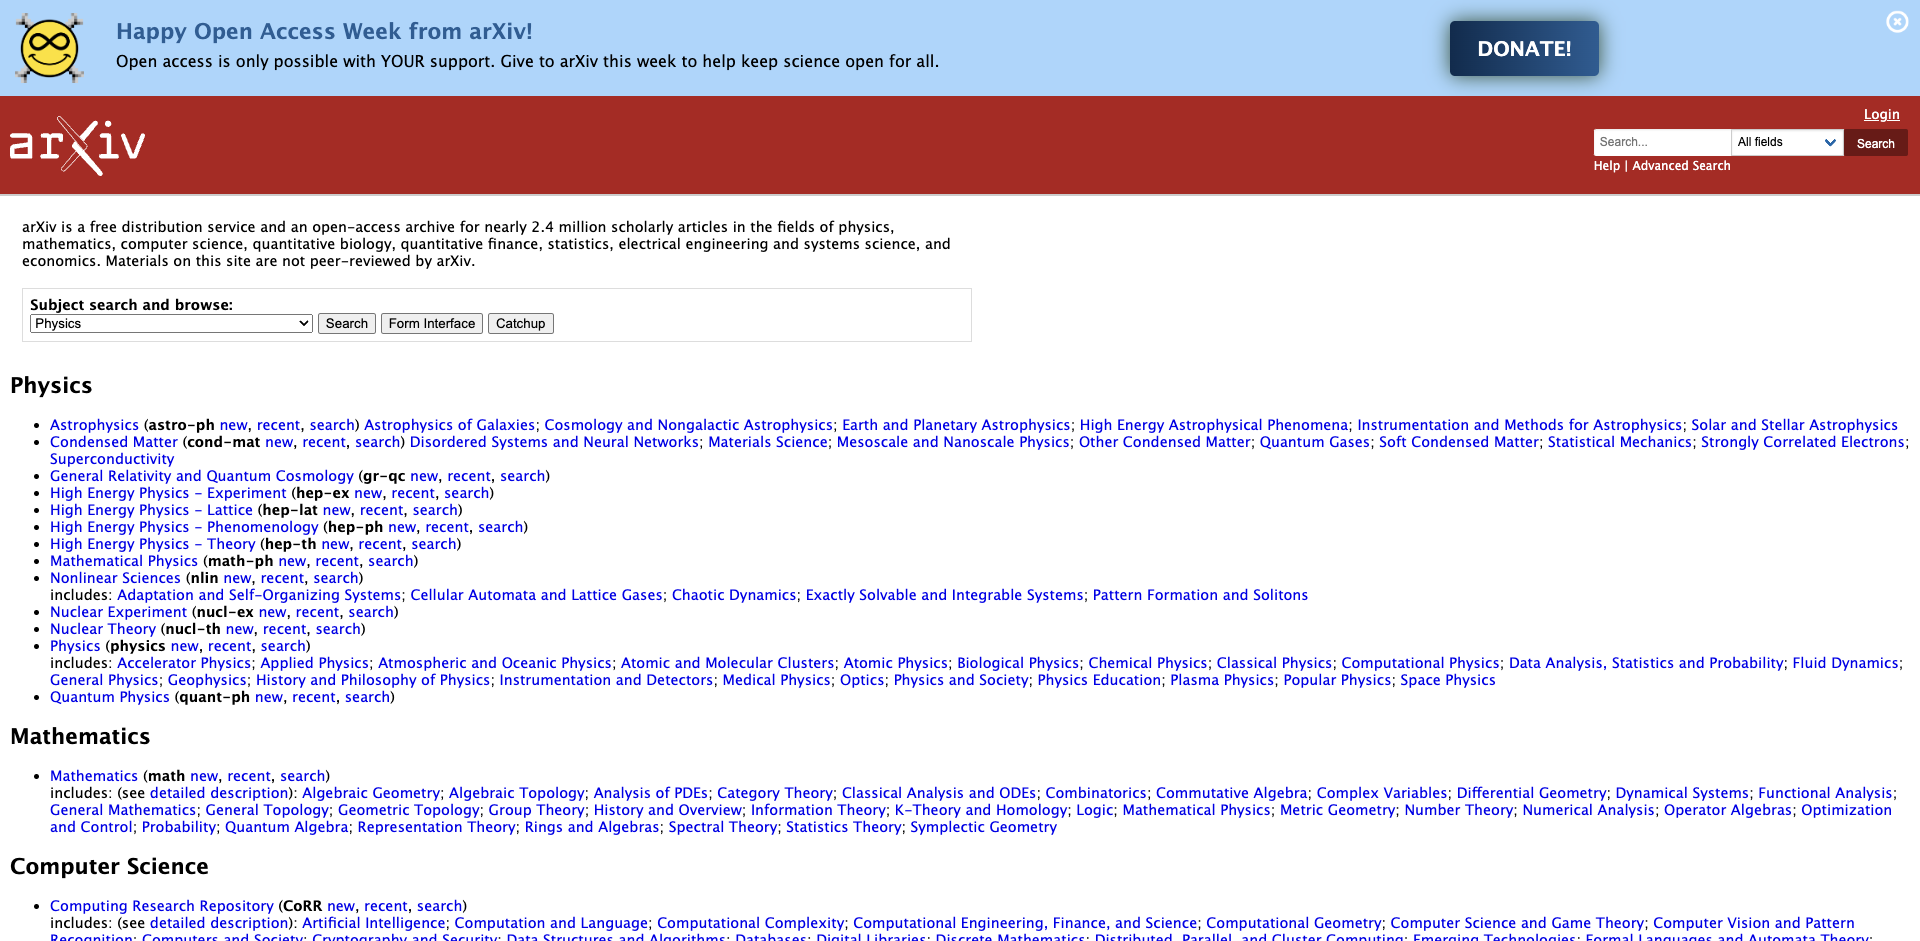button: (1450, 21, 1599, 76), (1844, 129, 1908, 156), (318, 312, 376, 334)
dropdown: (31, 314, 313, 333), (1731, 129, 1844, 156)
input: (1594, 129, 1742, 156), (381, 312, 484, 334), (487, 312, 553, 334)
label: (31, 297, 233, 312)
link: (50, 801, 1892, 834), (50, 914, 1855, 941), (853, 914, 1198, 931), (50, 467, 354, 484), (1358, 417, 1682, 433), (410, 433, 699, 450), (118, 586, 402, 603), (806, 586, 1084, 603), (1509, 654, 1783, 671), (50, 518, 318, 535), (545, 417, 833, 433), (1391, 914, 1644, 931), (410, 586, 662, 603), (1080, 417, 1348, 433), (50, 484, 287, 501), (256, 671, 491, 689), (836, 433, 1070, 450), (378, 654, 612, 671), (50, 897, 274, 914), (1093, 586, 1309, 603), (621, 654, 835, 671), (500, 671, 714, 689), (842, 417, 1070, 433), (50, 535, 256, 553), (1701, 433, 1905, 450), (50, 501, 253, 518), (842, 784, 1036, 801), (454, 914, 648, 931), (1691, 417, 1898, 433), (658, 914, 844, 931), (1095, 931, 1403, 941), (1206, 914, 1381, 931), (1079, 433, 1250, 450), (1586, 931, 1869, 941), (1379, 433, 1539, 450), (895, 801, 1068, 817), (364, 417, 535, 433), (1342, 654, 1500, 671), (358, 817, 516, 834), (1156, 784, 1308, 801), (1457, 784, 1607, 801), (911, 817, 1057, 834), (1548, 433, 1692, 450), (302, 914, 446, 931), (149, 784, 289, 801), (149, 914, 289, 931), (50, 553, 198, 569), (594, 801, 742, 817), (1123, 801, 1271, 817), (50, 603, 187, 620), (302, 784, 440, 801), (524, 817, 660, 834), (50, 801, 196, 817), (894, 671, 1029, 689), (449, 784, 584, 801), (1615, 784, 1750, 801), (1758, 784, 1893, 801), (118, 654, 251, 671), (338, 801, 480, 817), (50, 569, 181, 586), (1316, 784, 1447, 801), (50, 433, 178, 450), (507, 931, 726, 941), (751, 801, 885, 817), (672, 586, 797, 603), (1522, 801, 1656, 817), (50, 450, 174, 467), (1037, 671, 1161, 689), (225, 817, 349, 834), (958, 654, 1079, 671), (708, 433, 828, 450), (1664, 801, 1793, 817), (1089, 654, 1207, 671), (1217, 654, 1332, 671), (718, 784, 833, 801), (786, 817, 901, 834), (206, 801, 329, 817), (594, 784, 708, 801), (50, 689, 170, 705), (1260, 433, 1370, 450), (50, 671, 159, 689), (722, 671, 831, 689), (669, 817, 778, 834), (261, 654, 369, 671), (1283, 671, 1391, 689), (1280, 801, 1395, 817), (1793, 654, 1899, 671), (312, 931, 497, 941), (50, 620, 156, 637), (844, 654, 948, 671), (1171, 671, 1275, 689), (1046, 784, 1147, 801), (1404, 801, 1513, 817), (1401, 671, 1496, 689), (1413, 931, 1576, 941), (142, 931, 302, 941), (489, 801, 584, 817), (50, 767, 138, 784), (936, 931, 1086, 941), (1632, 158, 1731, 173), (50, 417, 140, 433), (168, 671, 247, 689), (142, 817, 216, 834), (817, 931, 927, 941), (50, 637, 100, 654), (478, 518, 524, 535), (348, 603, 394, 620), (416, 897, 463, 914), (355, 433, 400, 450), (500, 467, 545, 484), (444, 484, 490, 501), (413, 501, 458, 518), (411, 535, 457, 553), (313, 569, 359, 586), (316, 620, 361, 637), (261, 637, 306, 654), (280, 767, 326, 784), (447, 467, 491, 484), (425, 518, 469, 535), (295, 603, 339, 620), (840, 671, 884, 689), (364, 897, 408, 914), (302, 433, 345, 450), (392, 484, 435, 501), (360, 501, 403, 518), (359, 535, 402, 553), (261, 569, 304, 586), (263, 620, 306, 637), (208, 637, 251, 654), (228, 767, 271, 784), (310, 417, 355, 433), (369, 553, 414, 569), (345, 689, 391, 705), (735, 931, 807, 941), (291, 689, 336, 705), (257, 417, 300, 433), (316, 553, 359, 569), (1884, 10, 1910, 34), (1864, 107, 1900, 123), (1076, 801, 1113, 817), (264, 433, 293, 450), (410, 467, 438, 484), (354, 484, 382, 501), (322, 501, 350, 518), (388, 518, 416, 535), (321, 535, 349, 553), (223, 569, 251, 586), (258, 603, 287, 620), (225, 620, 253, 637), (170, 637, 198, 654), (190, 767, 218, 784), (327, 897, 355, 914), (219, 417, 247, 433), (278, 553, 306, 569), (255, 689, 283, 705), (1594, 158, 1620, 173), (0, 96, 0, 96)
